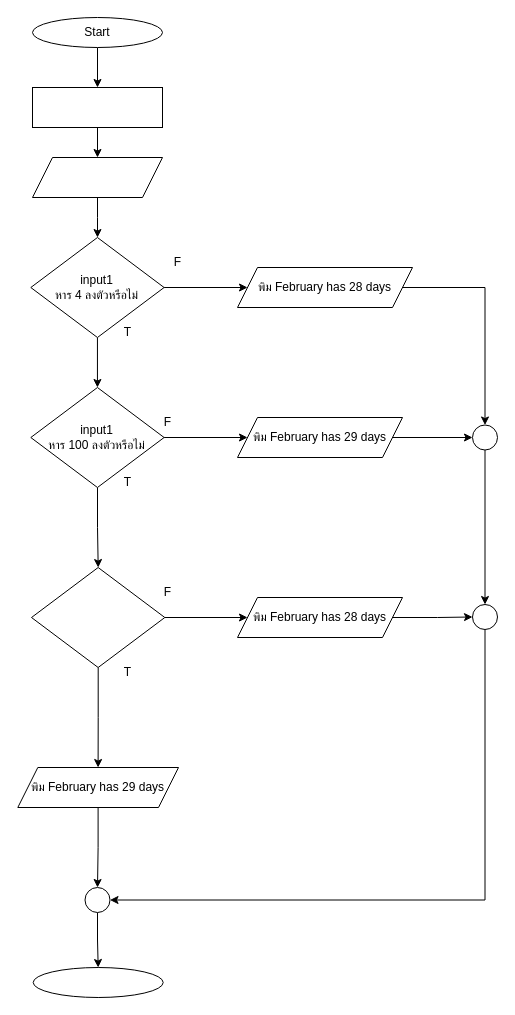
Image size: 515x1015. Some labels were removed from this diagram. Here are the shapes that lost their labels. From the top down, the centre of each, then its label:
the point at 97,107: กำหนดตัวแปร input
the point at 97,177: กรอกค่า input
the point at 97,617: input1 หาร 400 ลงตัวหรือไม่
the point at 97,982: End
